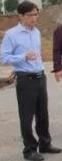boots: (23, 149, 44, 160), (1, 1, 1, 1)
